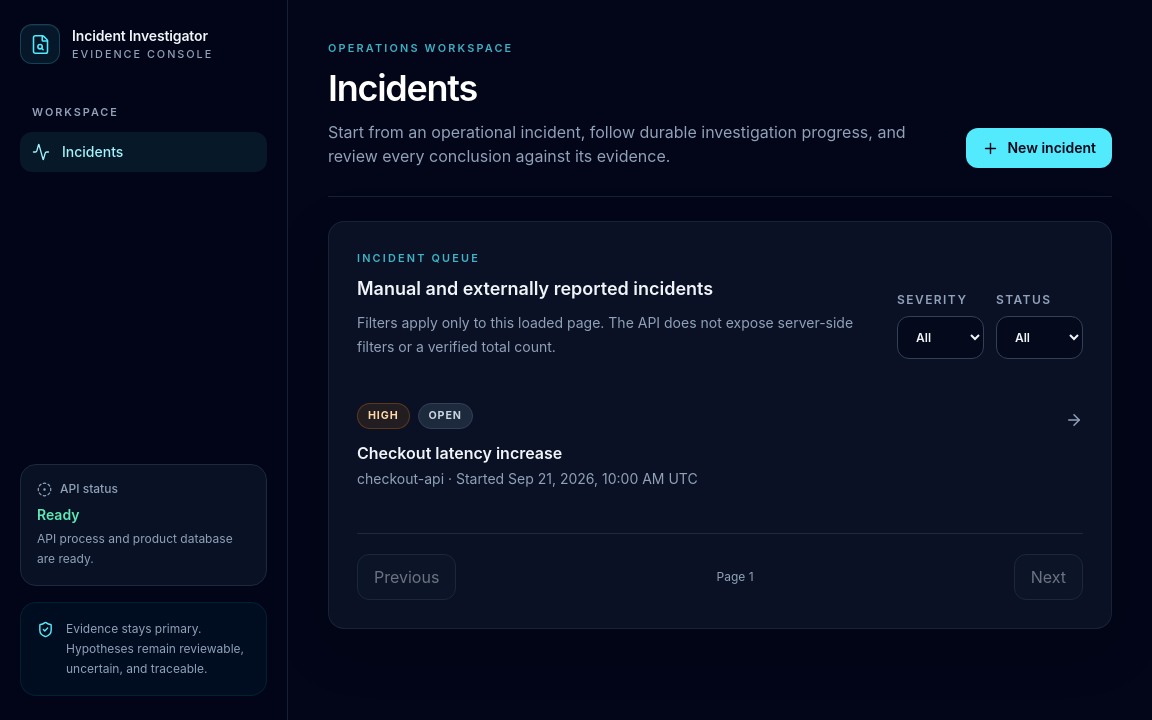
Test: responsive and accessibility hardening › focuses and announces main content after client-side route navigation
The width and height of the screenshot is (1152, 720).
Click the link "New incident": click(1039, 148) [966,128,1112,168]
(page scrolled)
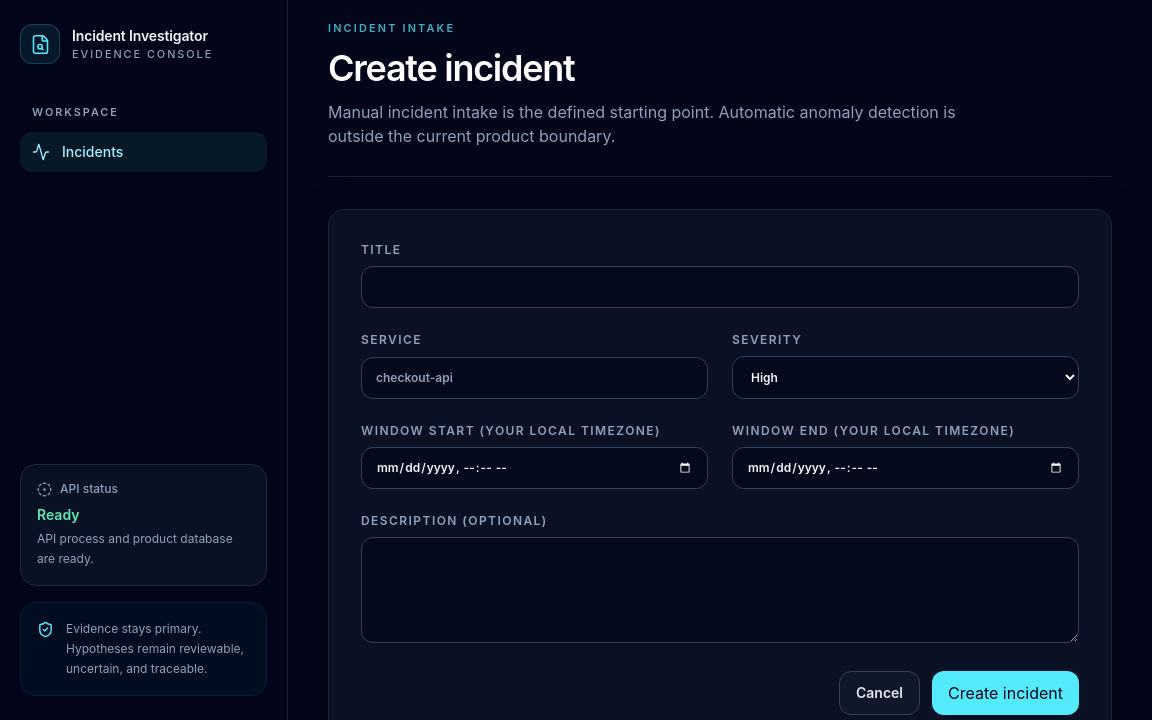
Now the heading "Create incident" is shown, box [328,46,574,90]
